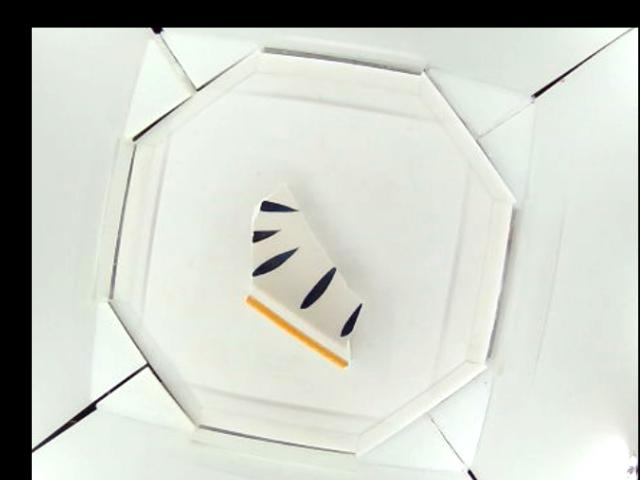China: (243, 178, 367, 363)
